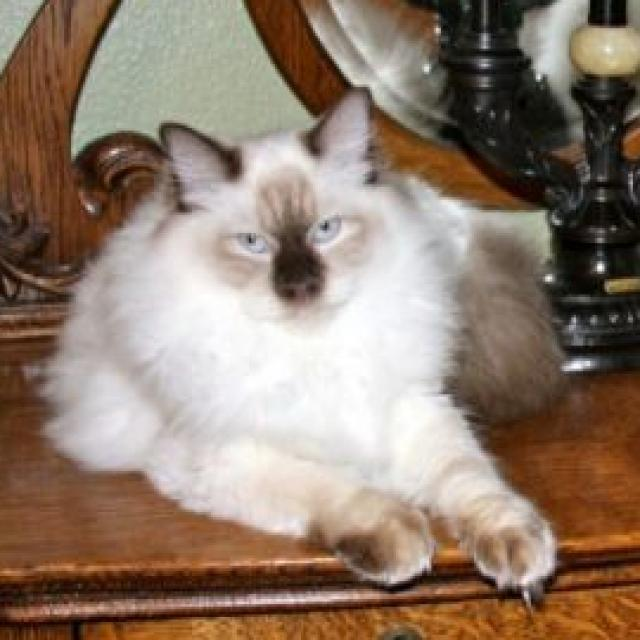Ragdoll: (31, 78, 575, 607)
